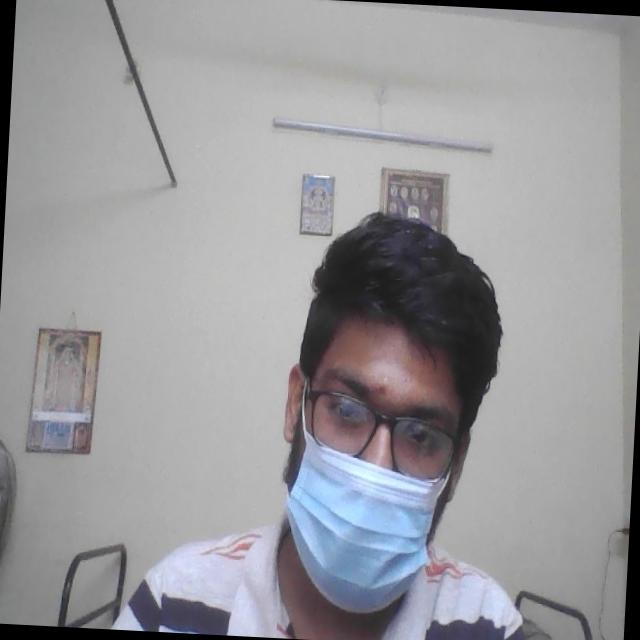Focused: (280, 322, 460, 605)
